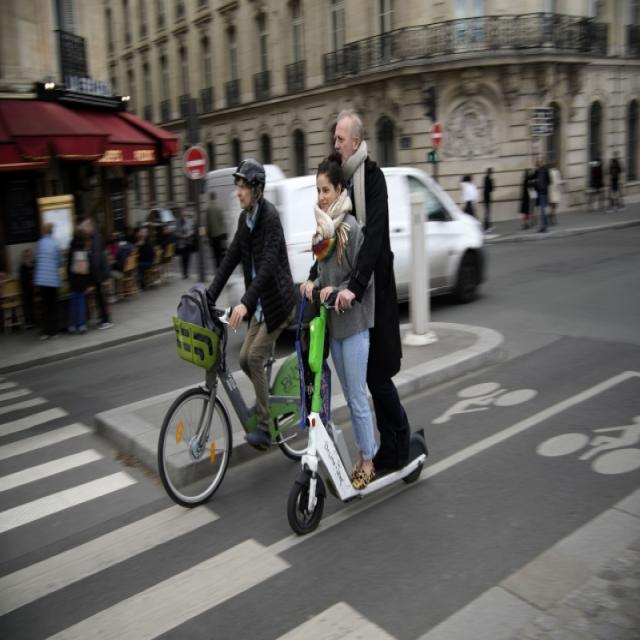non-helmet: (275, 89, 443, 542)
